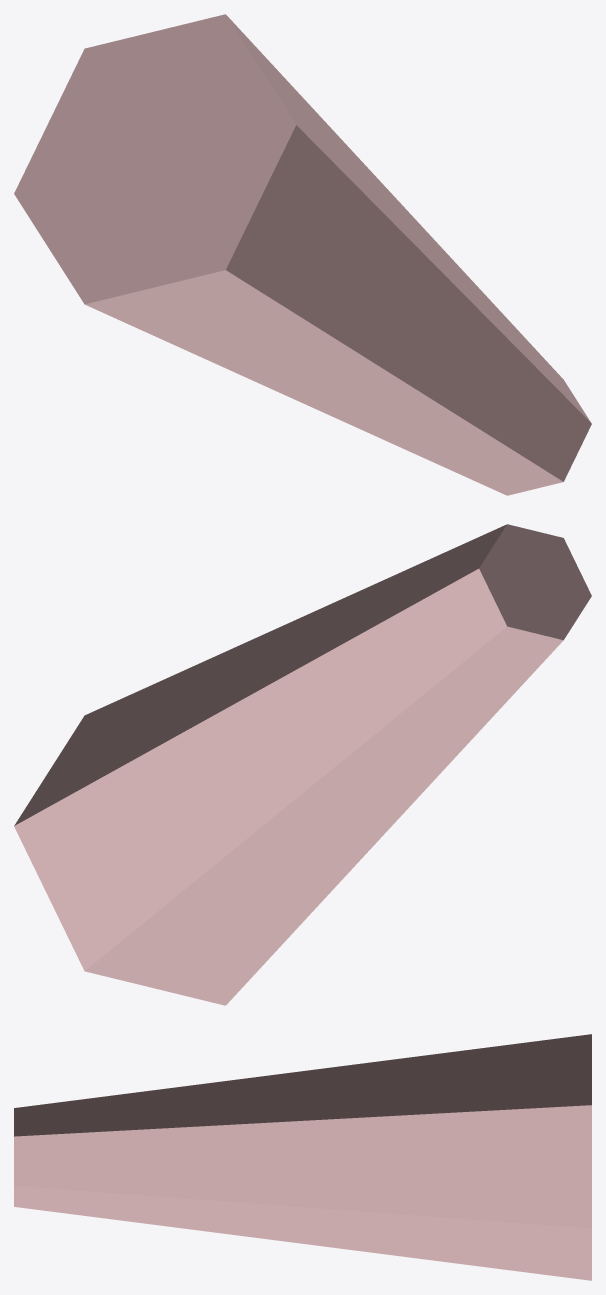
Rendered from mole_tail.glb.
The picture shows the model from 3 angles, top to bottom: view 1: azimuth 30°, elevation 25°; view 2: azimuth 150°, elevation 25°; view 3: azimuth 270°, elevation 25°; orthographic projection. The views are drawn at different scales.
Visible parts, largest first — view 1: mole_tail; view 2: mole_tail; view 3: mole_tail.
Part boxes in pixels (<box>): mole_tail: <box>14,14,591,495</box>; mole_tail: <box>14,524,591,1005</box>; mole_tail: <box>14,1034,591,1280</box>.
Size of the model in its own units: 0.03 by 0.026 by 0.07.
